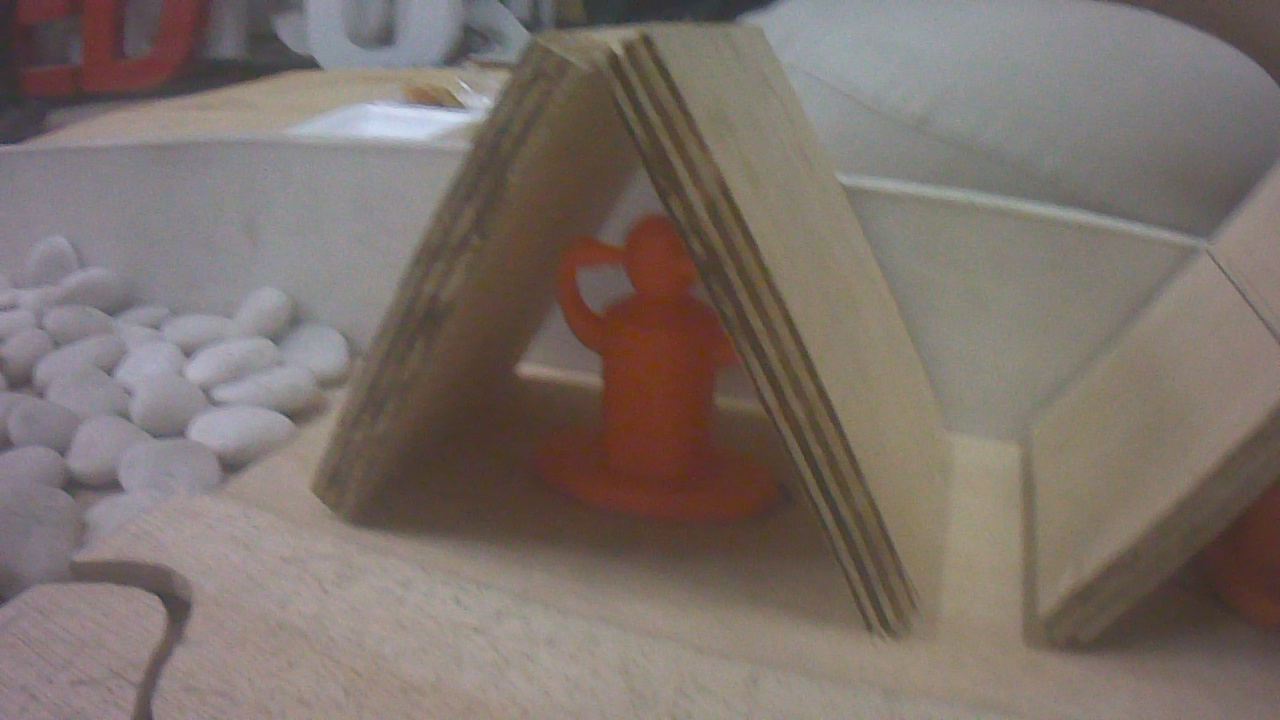real: (534, 205, 777, 528)
